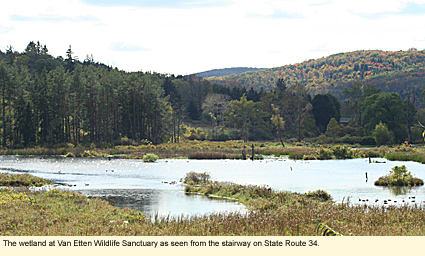tree: (369, 89, 411, 147), (268, 102, 295, 149)
vegetation: (5, 53, 425, 155), (178, 169, 334, 209), (270, 202, 425, 237), (7, 194, 121, 235), (381, 165, 425, 187)
water: (1, 149, 425, 225)
